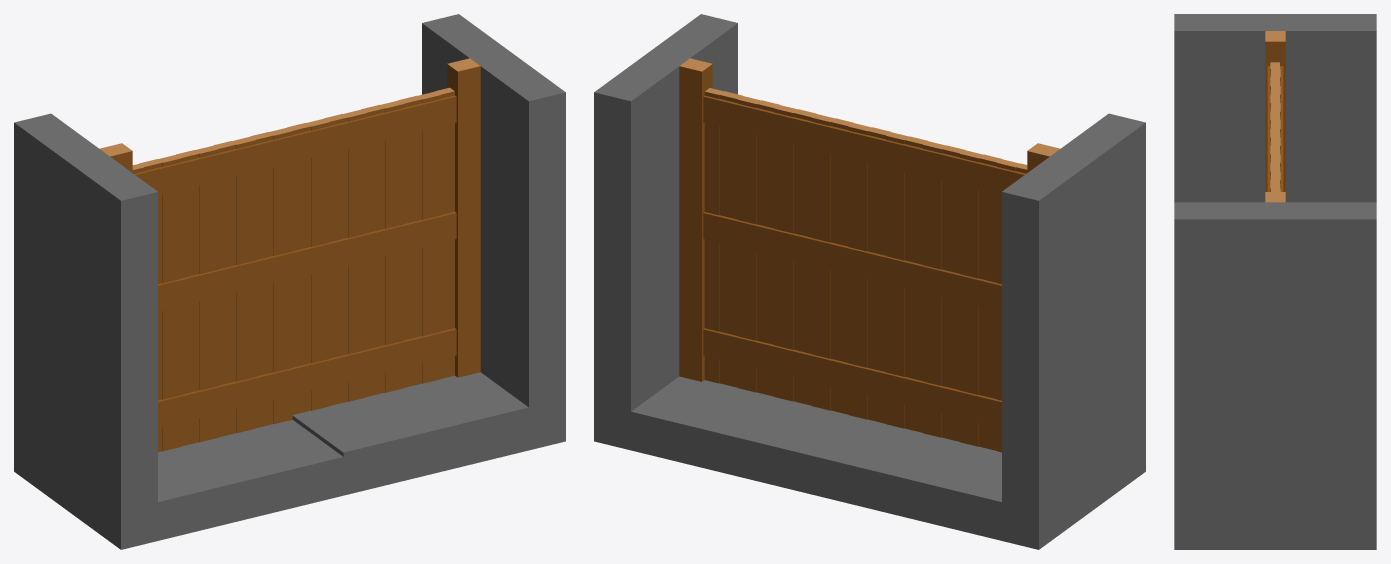
File: Dungeon_Tile_1x2_Walls_Double_Barricade_Wood_01.fbx
3 renders of one model, left to right at view 1: azimuth 30°, elevation 25°; view 2: azimuth 150°, elevation 25°; view 3: azimuth 270°, elevation 25°, orthographic. The views are drawn at different scales.
Parts seen in each view (by area): view 1: Dungeon_Tile_1x2_Walls_Double_Barricade_Wood_01; view 2: Dungeon_Tile_1x2_Walls_Double_Barricade_Wood_01; view 3: Dungeon_Tile_1x2_Walls_Double_Barricade_Wood_01.
Boxes of the visible parts, box(x1,y1,x2,y2) form: Dungeon_Tile_1x2_Walls_Double_Barricade_Wood_01: box(14, 14, 565, 549); Dungeon_Tile_1x2_Walls_Double_Barricade_Wood_01: box(594, 14, 1145, 549); Dungeon_Tile_1x2_Walls_Double_Barricade_Wood_01: box(1174, 14, 1376, 549).
Bounding box in the file's own units: 98.43 × 73.82 × 41.01.
